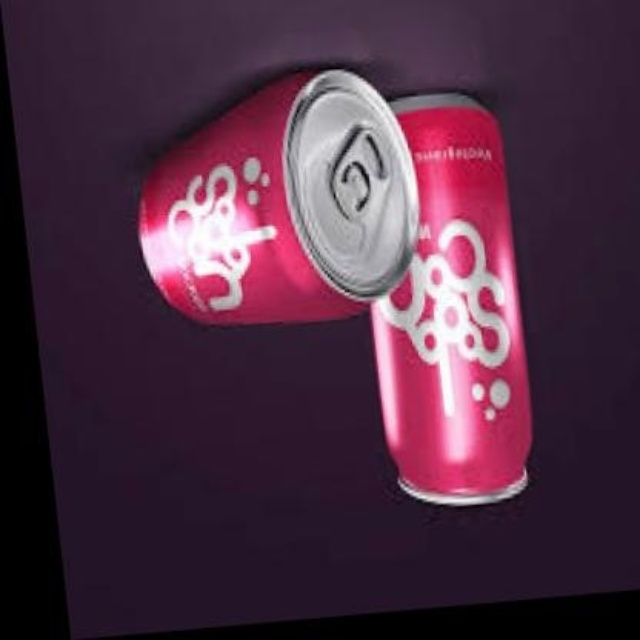trash: (138, 69, 417, 323), (371, 94, 531, 503)
